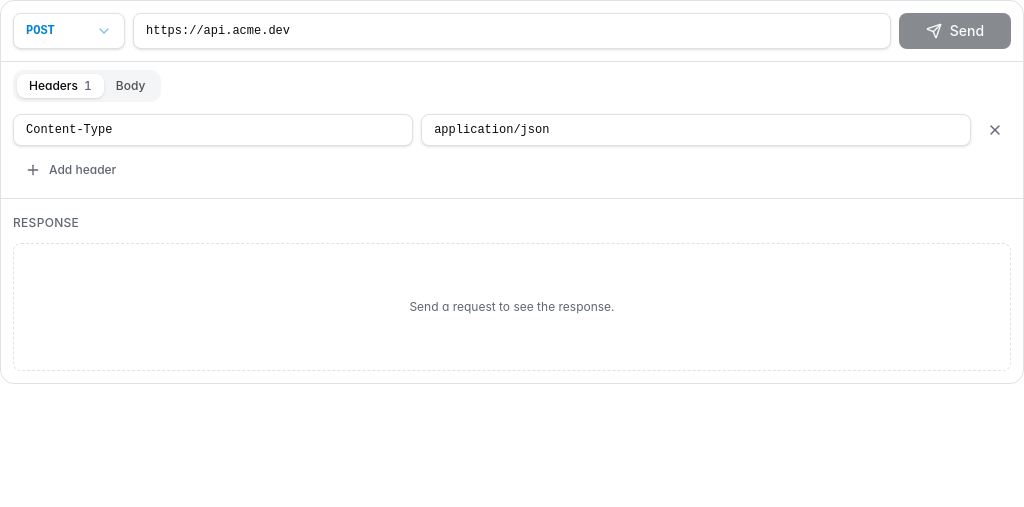
Test: ApiRequestPlayground › validates a JSON body for methods that send one
expect the button "Send" is disabled: met, box [899, 13, 1011, 49]
Click the tab "Body".
click(131, 86)  # box [104, 74, 157, 98]
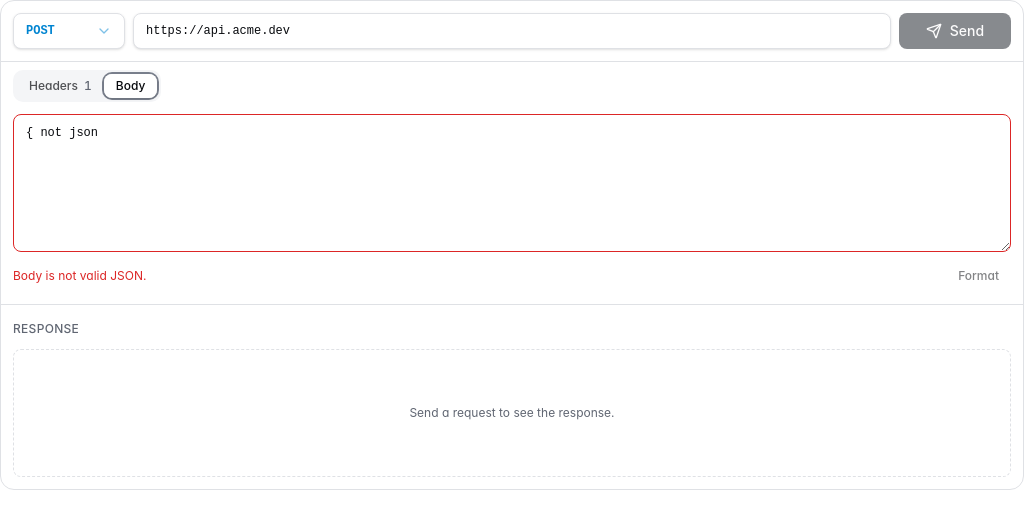
expect the text "Body is not valid JSON." is shown: met, box [13, 268, 146, 284]
